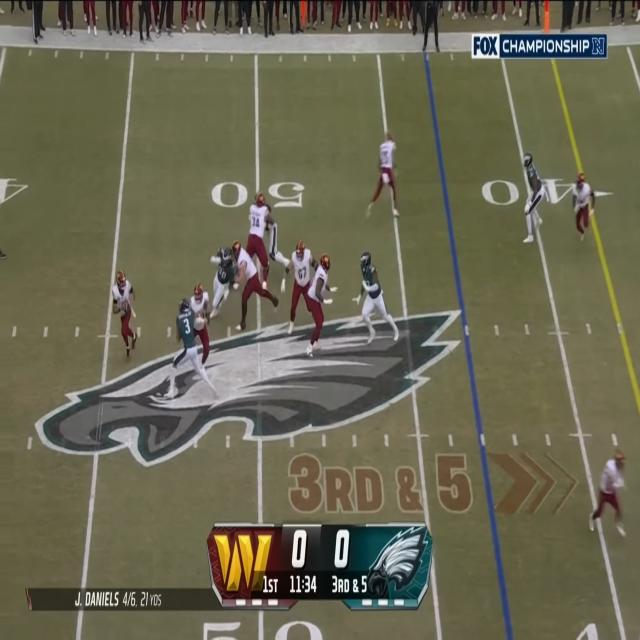Ball: (120, 298, 130, 313)
